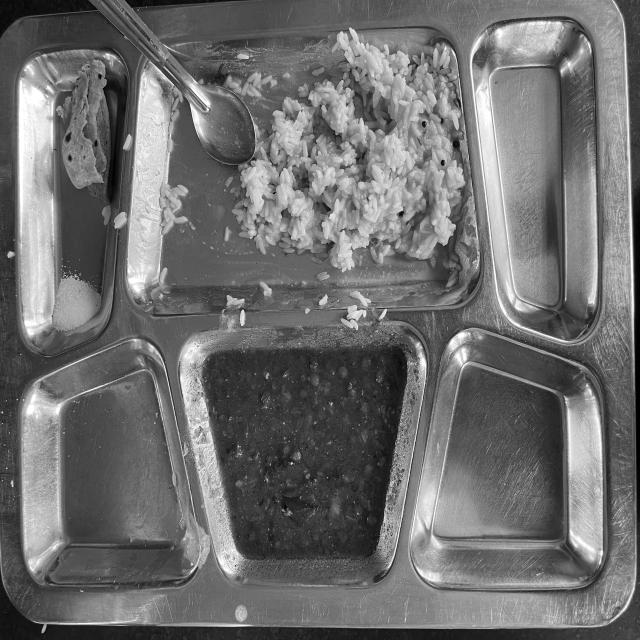50-Food-Left: (14, 21, 606, 612)
